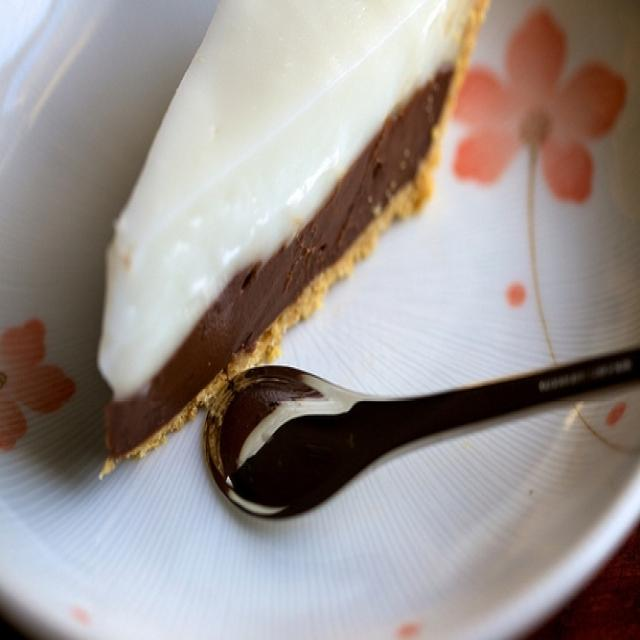蛋糕甜品: (40, 23, 592, 546)
